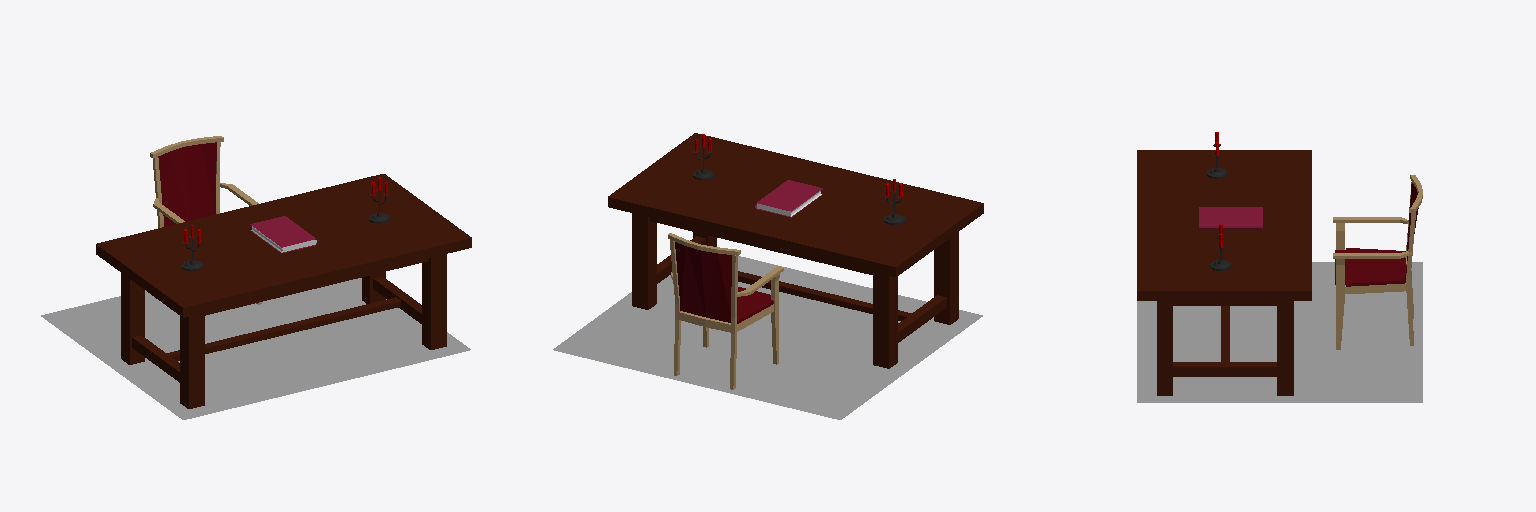
Rendered from mesita.obj.
3 views of the same model, side by side, from view 1: azimuth 30°, elevation 25°; view 2: azimuth 150°, elevation 25°; view 3: azimuth 270°, elevation 25° (orthographic).
Parts seen in each view (by area): view 1: Cube_2_21, ground_1, 4_4_4, Cube_1_10, Cube_1_1_11, Cube_1_10_20, Cube_1_3_13, face_avant_42, 2_2_9, Cube_1_8_18, Cube_1_9_19, Cube_1_5_15; view 2: ground_1, Cube_2_21, 4_4_4, 2_2_9, Cube_1_3_13, Cube_1_2_12, Cube_1_10, Cube_1_10_20, face_avant_42, Cube_1_8_18, Cube_1_4_14, 5_5_2 (+1 smaller); view 3: ground_1, Cube_2_21, 5_5_2, Cube_1_2_12, Cube_1_9_19, Cube_1_1_11, 2_2_9, face_avant_42, 3_3_7.
Part boxes in pixels (left/top/right/bottom): Cube_2_21: left=96, top=174, right=471, bottom=317; ground_1: left=41, top=278, right=470, bottom=419; 4_4_4: left=158, top=142, right=216, bottom=226; Cube_1_10: left=180, top=313, right=204, bottom=408; Cube_1_1_11: left=422, top=254, right=446, bottom=349; Cube_1_10_20: left=167, top=297, right=400, bottom=360; Cube_1_3_13: left=121, top=273, right=144, bottom=364; face_avant_42: left=250, top=216, right=315, bottom=247; 2_2_9: left=150, top=136, right=223, bottom=227; Cube_1_8_18: left=132, top=335, right=179, bottom=382; Cube_1_9_19: left=373, top=276, right=421, bottom=323; Cube_1_5_15: left=205, top=258, right=428, bottom=315; ground_1: left=553, top=256, right=982, bottom=419; Cube_2_21: left=608, top=133, right=983, bottom=276; 4_4_4: left=675, top=242, right=731, bottom=322; 2_2_9: left=668, top=233, right=773, bottom=389; Cube_1_3_13: left=873, top=272, right=897, bottom=368; Cube_1_2_12: left=632, top=213, right=656, bottom=309; Cube_1_10: left=934, top=232, right=958, bottom=324; Cube_1_10_20: left=738, top=271, right=911, bottom=320; face_avant_42: left=757, top=180, right=822, bottom=211; Cube_1_8_18: left=898, top=295, right=946, bottom=342; Cube_1_4_14: left=650, top=218, right=872, bottom=274; 5_5_2: left=737, top=287, right=772, bottom=320; ground_1: left=1137, top=262, right=1422, bottom=402; Cube_2_21: left=1137, top=150, right=1311, bottom=300; 5_5_2: left=1335, top=248, right=1406, bottom=283; Cube_1_2_12: left=1277, top=301, right=1293, bottom=395; Cube_1_9_19: left=1173, top=362, right=1276, bottom=376; Cube_1_1_11: left=1157, top=301, right=1172, bottom=395; 2_2_9: left=1345, top=175, right=1422, bottom=345; face_avant_42: left=1199, top=207, right=1262, bottom=223; 3_3_7: left=1336, top=259, right=1344, bottom=349.
Bounding box in the file's own units: 188 × 95.7 × 162.